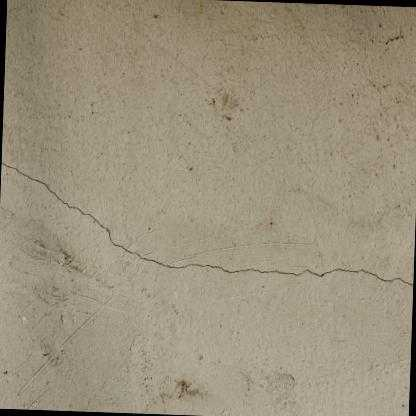crack: (1, 159, 414, 286)
